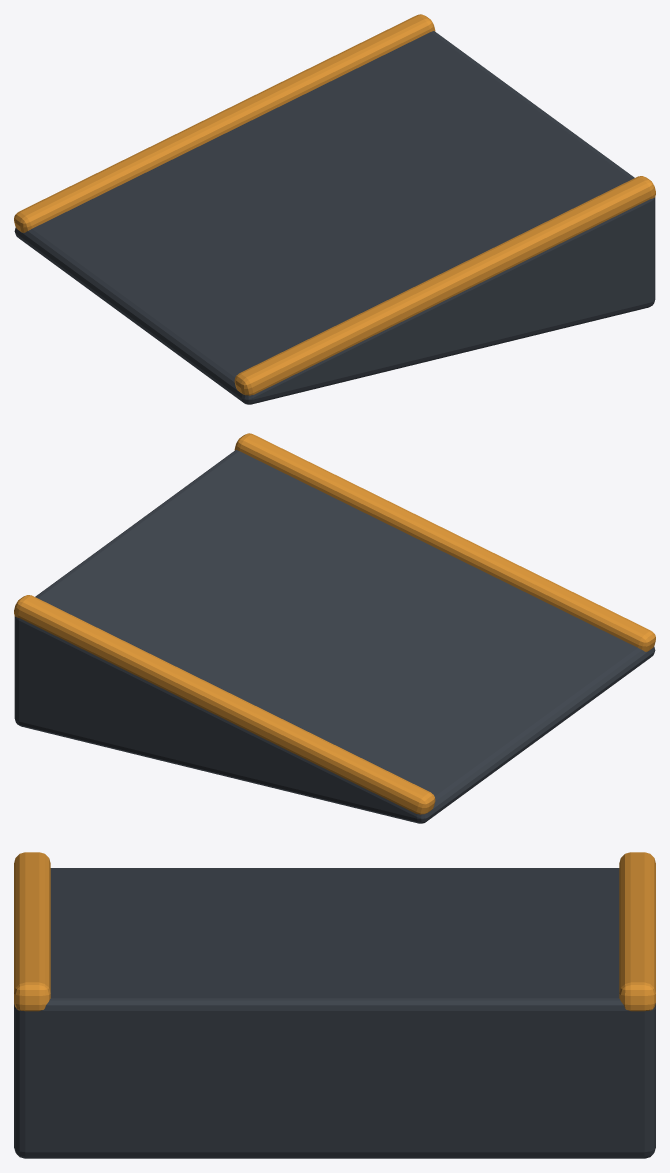
The model's file is SM_RobotCenter_RobotExitRamp.fbx.
The picture shows the model from 3 angles, top to bottom: view 1: azimuth 30°, elevation 25°; view 2: azimuth 150°, elevation 25°; view 3: azimuth 270°, elevation 25°; orthographic projection. The views are drawn at different scales.
Visible parts, largest first — view 1: SM_RobotCenter_RobotExitRamp.001; view 2: SM_RobotCenter_RobotExitRamp.001; view 3: SM_RobotCenter_RobotExitRamp.001.
Boxes of the visible parts, x1,y1,x2,y2 form: SM_RobotCenter_RobotExitRamp.001: [14, 14, 655, 404]; SM_RobotCenter_RobotExitRamp.001: [14, 433, 655, 823]; SM_RobotCenter_RobotExitRamp.001: [14, 852, 655, 1158].
Size of the model in its own units: 280 by 286 by 83.65.
